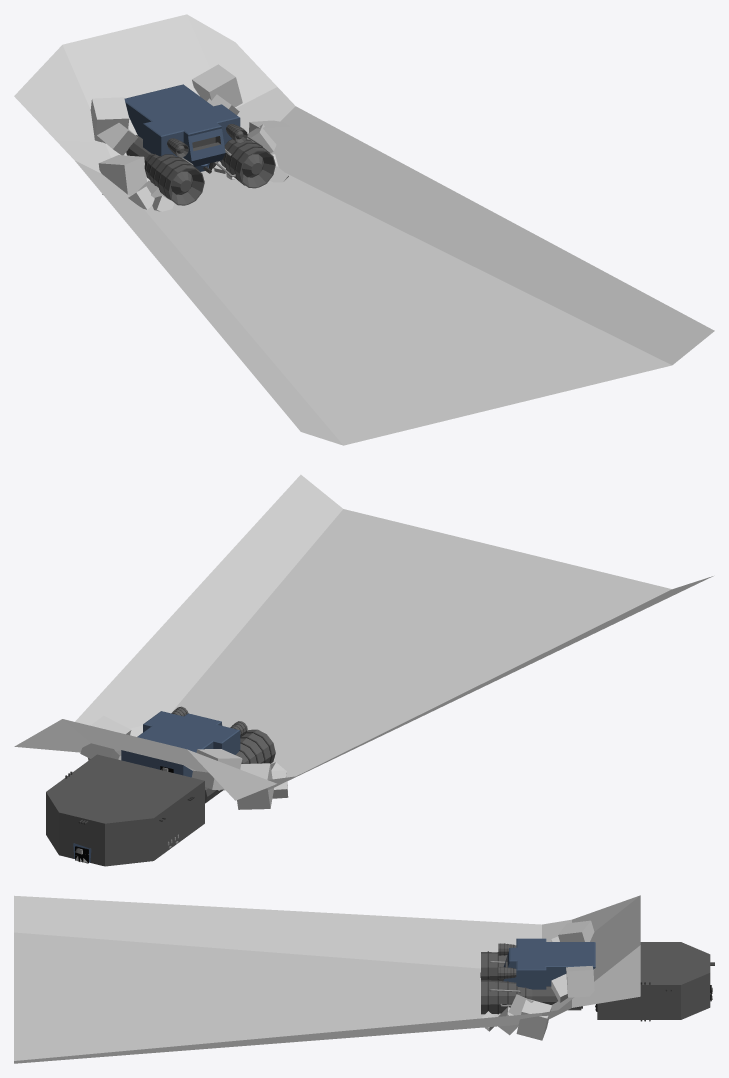
File: scene_draft (1).fbx
3 renders of one model, top to bottom at view 1: azimuth 30°, elevation 25°; view 2: azimuth 150°, elevation 25°; view 3: azimuth 270°, elevation 25°, orthographic. The views are drawn at different scales.
Visible parts, largest first — view 1: Ground, Cube, Cylinder.005; view 2: Ground, Plane.001, Cube, Cylinder.005; view 3: Ground, Plane.001, Cube, Cylinder.005.
Part boxes in pixels (<box>): Ground: <box>14,14,714,445</box>; Cube: <box>124,84,240,166</box>; Cylinder.005: <box>126,124,275,205</box>; Ground: <box>14,474,713,809</box>; Plane.001: <box>46,754,204,866</box>; Cube: <box>121,711,240,777</box>; Cylinder.005: <box>171,706,275,803</box>; Ground: <box>14,895,640,1063</box>; Plane.001: <box>597,942,710,1019</box>; Cube: <box>503,938,595,989</box>; Cylinder.005: <box>481,943,582,1014</box>.
Size of the model in its own units: 32483 by 8712 by 58224.
